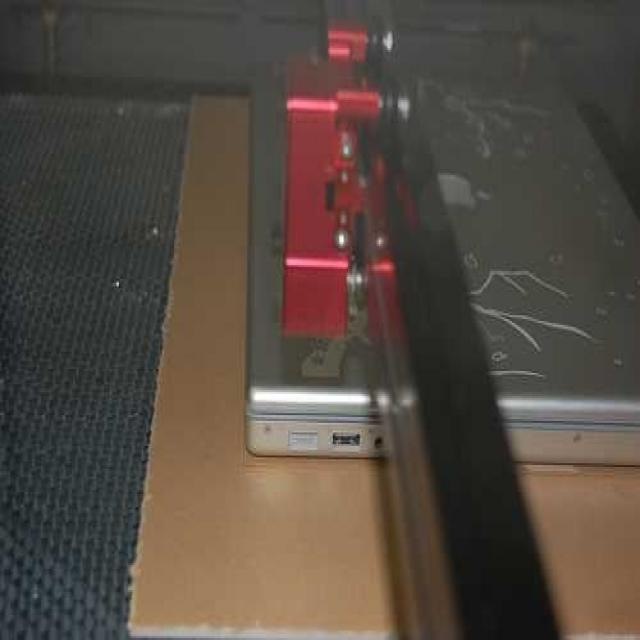laptop: (253, 56, 640, 463)
